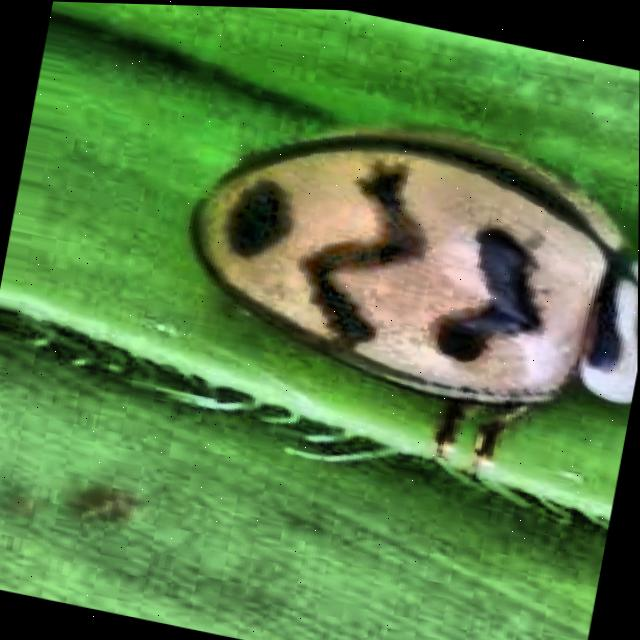Asian-Lady-beetle: (0, 6, 640, 640)
